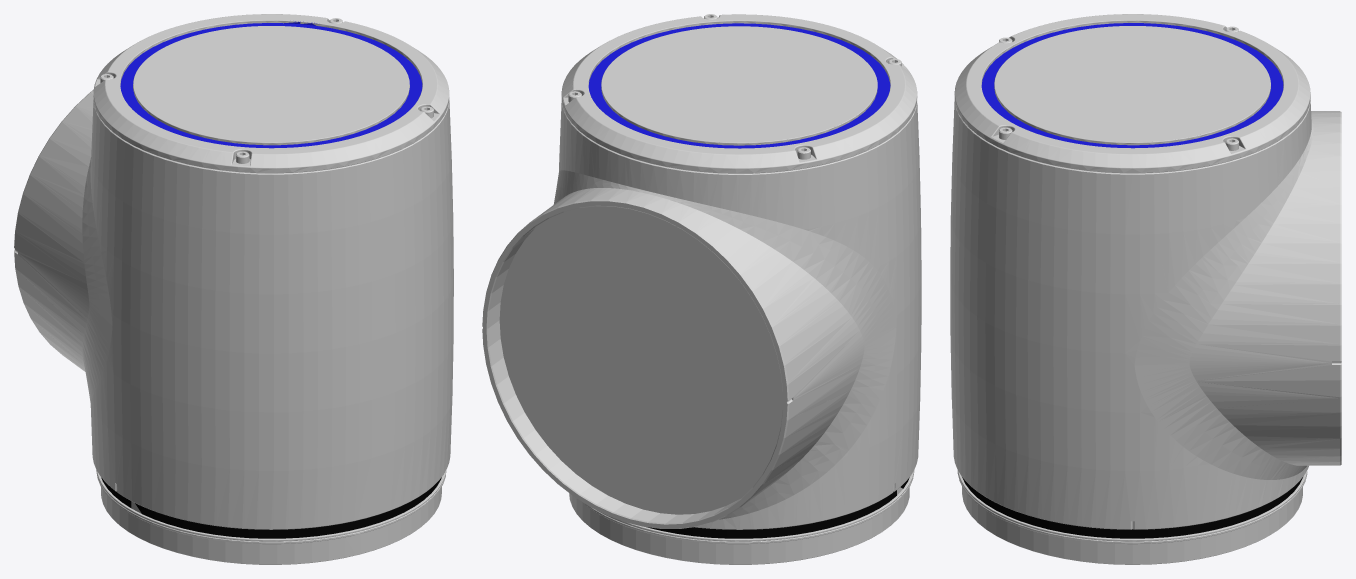
The model's file is symphony20_1_w.dae.
3 renders of one model, left to right at view 1: azimuth 30°, elevation 25°; view 2: azimuth 150°, elevation 25°; view 3: azimuth 270°, elevation 25°, orthographic.
Visible parts, largest first — view 1: link1; view 2: link1; view 3: link1.
Boxes of the visible parts, x1,y1,x2,y2 form: link1: (14,14,453,564); link1: (482,14,921,564); link1: (950,14,1341,564).
Size of the model in its own units: 0.1872 by 0.2009 by 0.2315.
